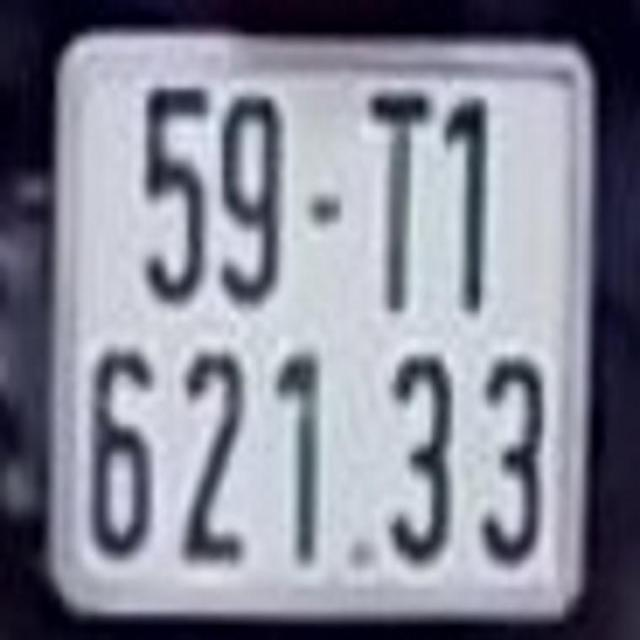1: (268, 351, 328, 570), (440, 97, 491, 313)
2: (180, 354, 248, 565)
3: (388, 356, 449, 559), (485, 355, 539, 567)
5: (141, 84, 208, 300)
6: (87, 349, 156, 556)
9: (219, 93, 286, 306)
T: (371, 96, 420, 315)
